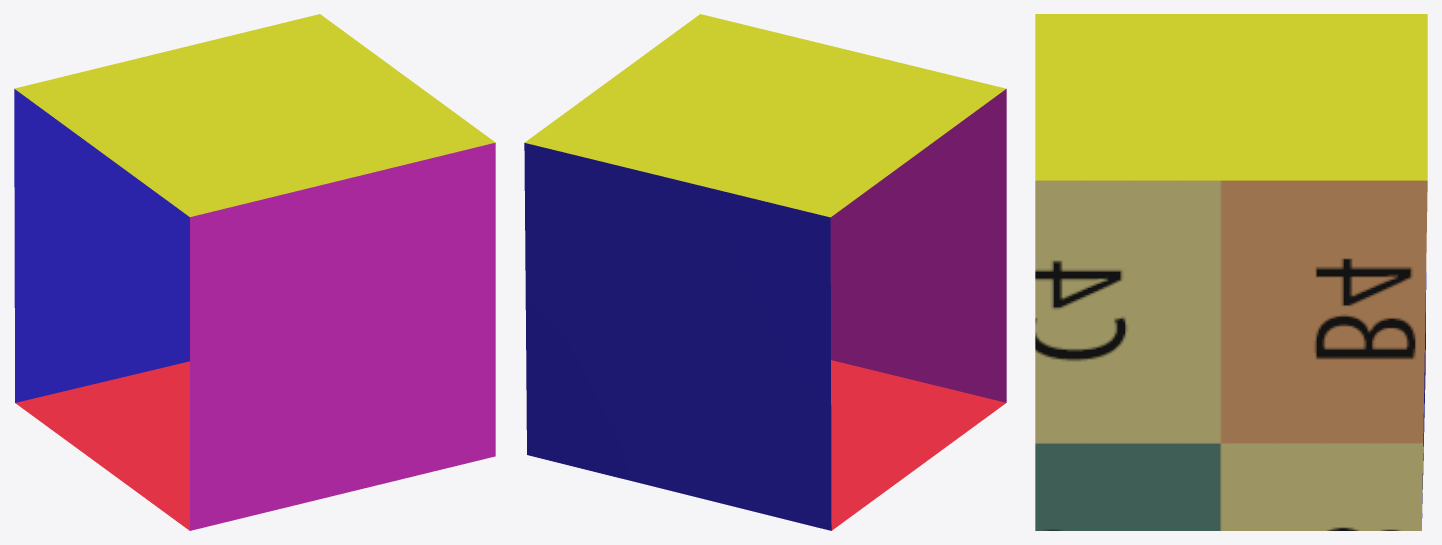
File: wall_c.fbx
3 views of the same model, side by side, from view 1: azimuth 30°, elevation 25°; view 2: azimuth 150°, elevation 25°; view 3: azimuth 270°, elevation 25° (orthographic). The views are drawn at different scales.
Visible parts, largest first — view 1: CornellBox; view 2: CornellBox; view 3: CornellBox.
Part boxes in pixels (box(x1,y1,x2,y2)): CornellBox: box(14, 14, 495, 530); CornellBox: box(524, 14, 1006, 530); CornellBox: box(1035, 14, 1427, 530).
Size of the model in its own units: 2030 by 1990 by 2020.
Materials: 6 (1 with a texture image).
